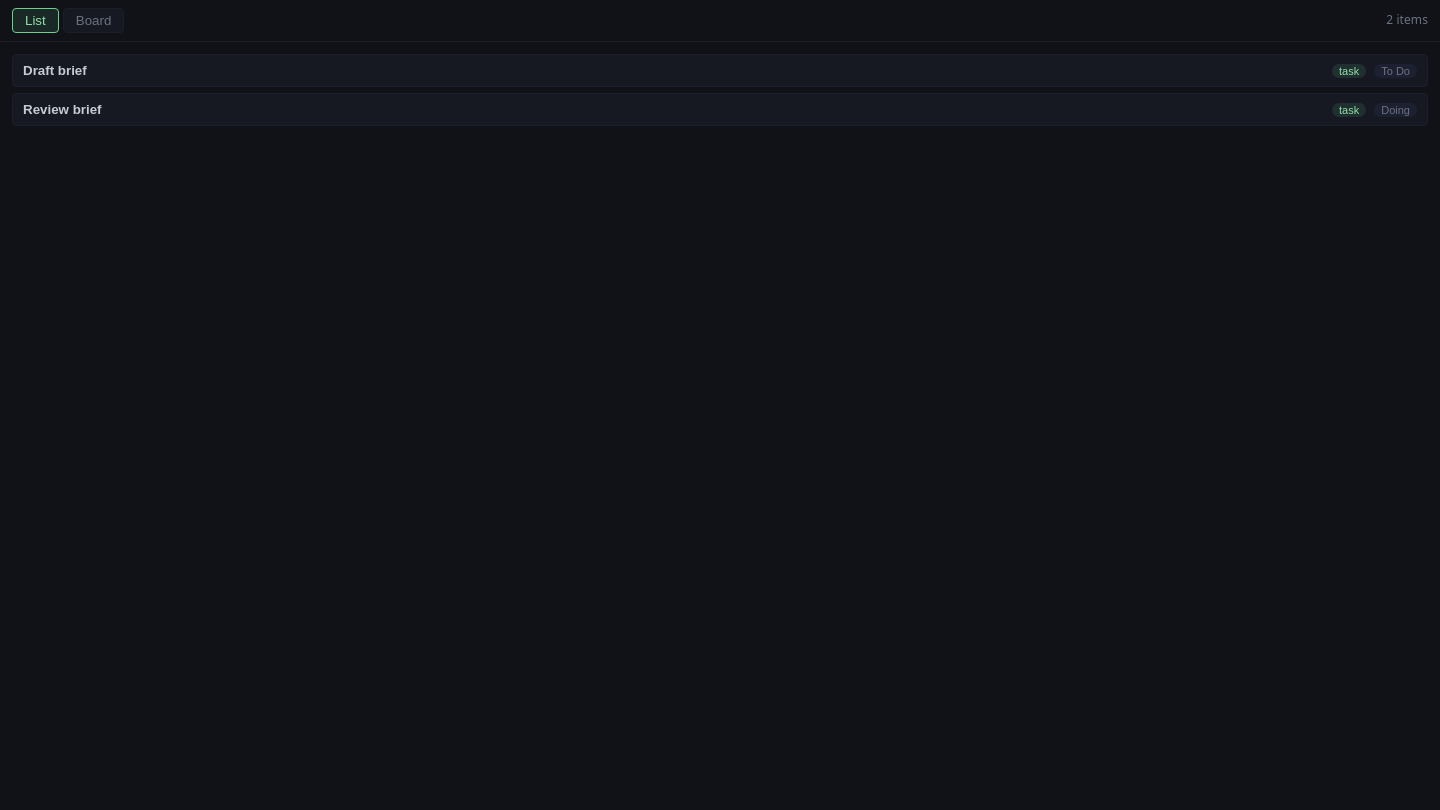
Test: graph lens › selecting an entity opens the inspector with its backlinks
The width and height of the screenshot is (1440, 810).
Click the text "Draft brief": click(55, 70) [23,63,87,78]
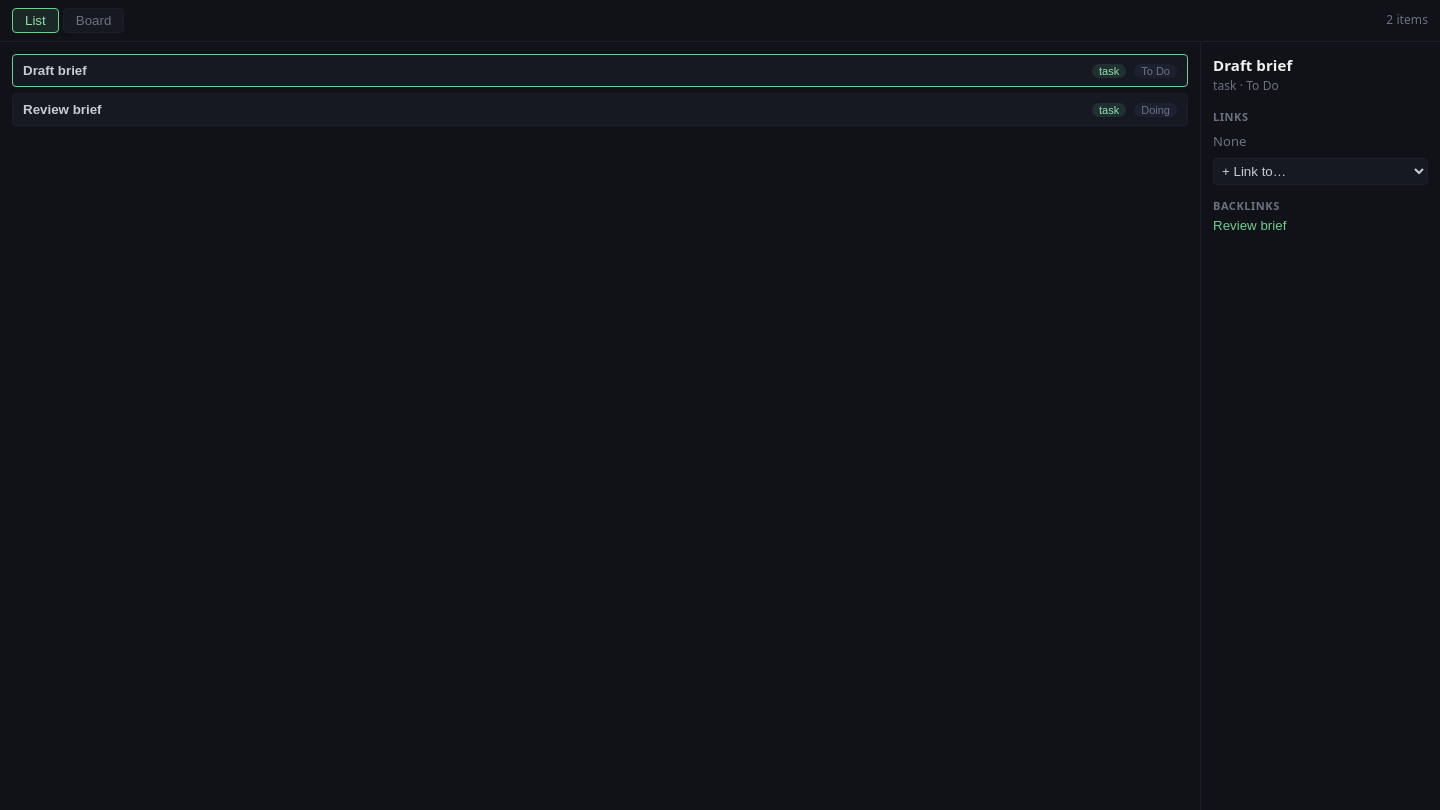
Result: the element named "inspector" shows "Review brief" at [1213,218,1286,233]
